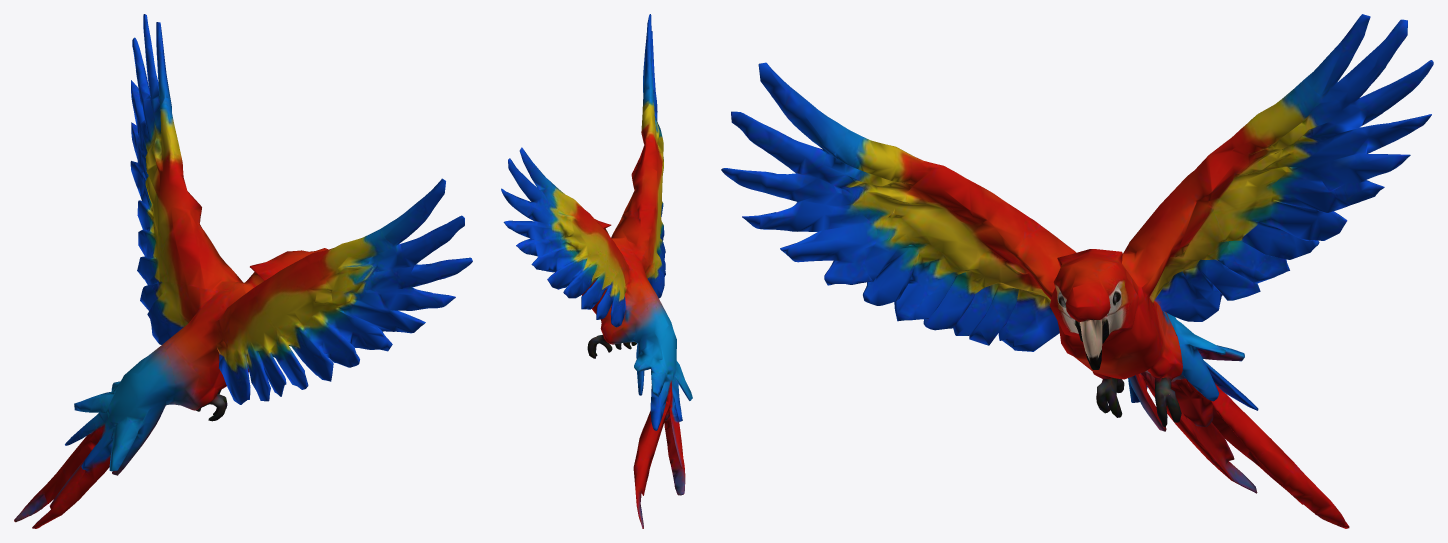
File: macaw.glb
The picture shows the model from 3 angles, left to right: view 1: azimuth 30°, elevation 25°; view 2: azimuth 150°, elevation 25°; view 3: azimuth 270°, elevation 25°; orthographic projection. The views are drawn at different scales.
Visible parts, largest first — view 1: tripo_node_e635938e-2ba6-422d-92a1-d3f0a87929d8; view 2: tripo_node_e635938e-2ba6-422d-92a1-d3f0a87929d8; view 3: tripo_node_e635938e-2ba6-422d-92a1-d3f0a87929d8.
Part boxes in pixels (x1,y1,x2,y2): tripo_node_e635938e-2ba6-422d-92a1-d3f0a87929d8: (14, 14, 472, 528); tripo_node_e635938e-2ba6-422d-92a1-d3f0a87929d8: (501, 14, 692, 528); tripo_node_e635938e-2ba6-422d-92a1-d3f0a87929d8: (721, 14, 1433, 528).
Bounding box in the file's own units: 0.5356 × 0.9488 × 0.9997.
1 material, 1 textured.
